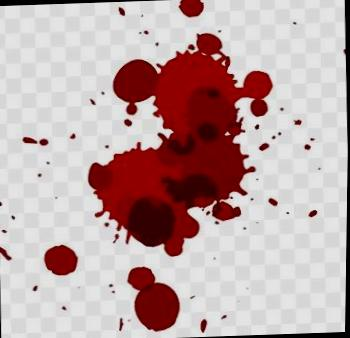Fire: (88, 34, 274, 258), (128, 267, 181, 333), (44, 245, 79, 276), (178, 0, 204, 18)
